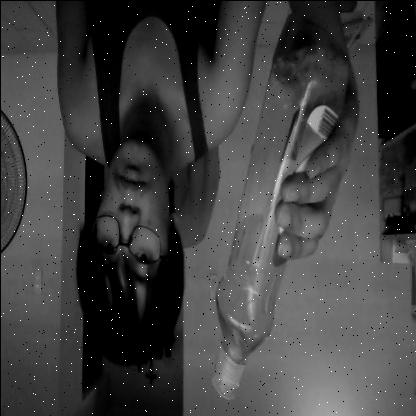Plastic Bottle: (212, 7, 343, 397)
